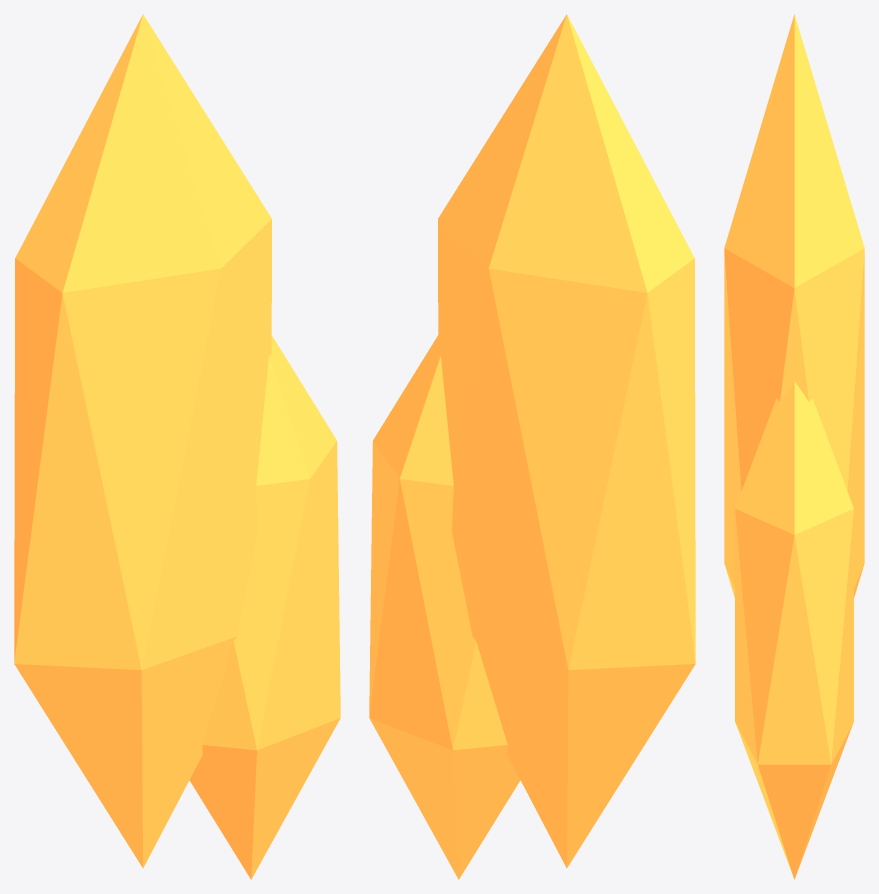
The model's file is fire_flame_a.glb.
The picture shows the model from 3 angles, left to right: view 1: azimuth 30°, elevation 25°; view 2: azimuth 150°, elevation 25°; view 3: azimuth 270°, elevation 25°; orthographic projection. The views are drawn at different scales.
Visible parts, largest first — view 1: fire_flame_a; view 2: fire_flame_a; view 3: fire_flame_a.
Part boxes in pixels (bbox=[...]): fire_flame_a: bbox=[14, 14, 340, 879]; fire_flame_a: bbox=[369, 14, 695, 879]; fire_flame_a: bbox=[724, 14, 864, 879].
Size of the model in its own units: 0.2689 by 0.71 by 0.1106.
